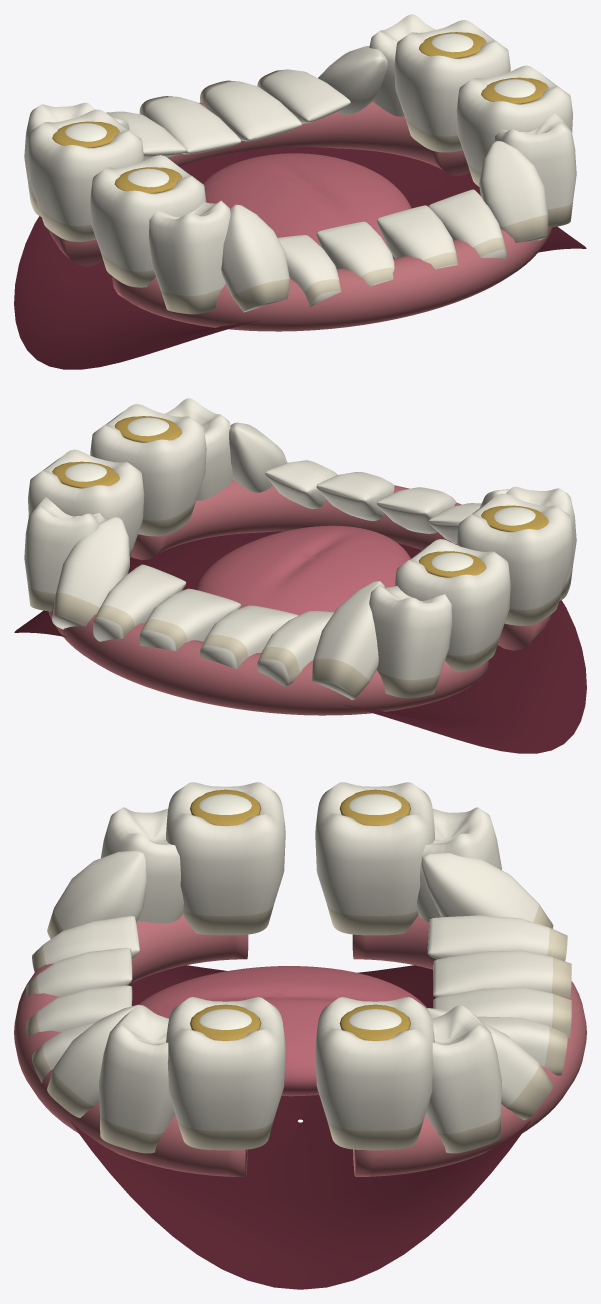
File: treatment-mouth.glb
3 renders of one model, top to bottom at view 1: azimuth 30°, elevation 25°; view 2: azimuth 150°, elevation 25°; view 3: azimuth 270°, elevation 25°, orthographic. The views are drawn at different scales.
Visible parts, largest first — view 1: Tooth enamel, Healthy gingiva, Oral interior, Tongue and palate, plaque_3, plaque_0, plaque_2, plaque_1, filling_0, filling_3, filling_2, filling_1; view 2: Tooth enamel, Healthy gingiva, Oral interior, Tongue and palate, plaque_1, plaque_2, plaque_0, plaque_3, filling_1, filling_2, filling_0, filling_3; view 3: Tooth enamel, Oral interior, Healthy gingiva, Tongue and palate, plaque_0, plaque_3, plaque_2, plaque_1, filling_0, filling_2, filling_1, filling_3.
Boxes of the visible parts, box(x1,y1,x2,y2) form: Tooth enamel: box(24, 14, 576, 314); Healthy gingiva: box(48, 101, 552, 331); Oral interior: box(14, 147, 586, 369); Tongue and palate: box(203, 153, 411, 258); plaque_3: box(481, 77, 548, 104); plaque_0: box(52, 121, 119, 147); plaque_2: box(114, 167, 181, 193); plaque_1: box(419, 32, 486, 58); filling_0: box(65, 123, 106, 141); filling_3: box(494, 79, 535, 97); filling_2: box(127, 168, 169, 187); filling_1: box(431, 33, 473, 52); Tooth enamel: box(24, 398, 576, 699); Healthy gingiva: box(48, 479, 552, 715); Oral interior: box(14, 531, 586, 753); Tongue and palate: box(195, 525, 410, 615); plaque_1: box(52, 461, 119, 488); plaque_2: box(481, 505, 548, 531); plaque_0: box(419, 551, 486, 577); plaque_3: box(114, 416, 181, 442); filling_1: box(65, 463, 106, 481); filling_2: box(494, 507, 535, 525); filling_0: box(431, 552, 473, 571); filling_3: box(127, 417, 169, 436); Tooth enamel: box(26, 782, 571, 1153); Oral interior: box(70, 965, 530, 1289); Healthy gingiva: box(14, 914, 586, 1176); Tongue and palate: box(139, 966, 426, 1096); plaque_0: box(339, 789, 410, 825); plaque_3: box(190, 1004, 261, 1040); plaque_2: box(190, 789, 261, 825); plaque_1: box(339, 1004, 410, 1040); filling_0: box(349, 794, 401, 814); filling_2: box(199, 794, 251, 814); filling_1: box(349, 1009, 401, 1029); filling_3: box(199, 1009, 251, 1029).
Bounding box in the file's own units: 4.2 × 1.45 × 3.29.
